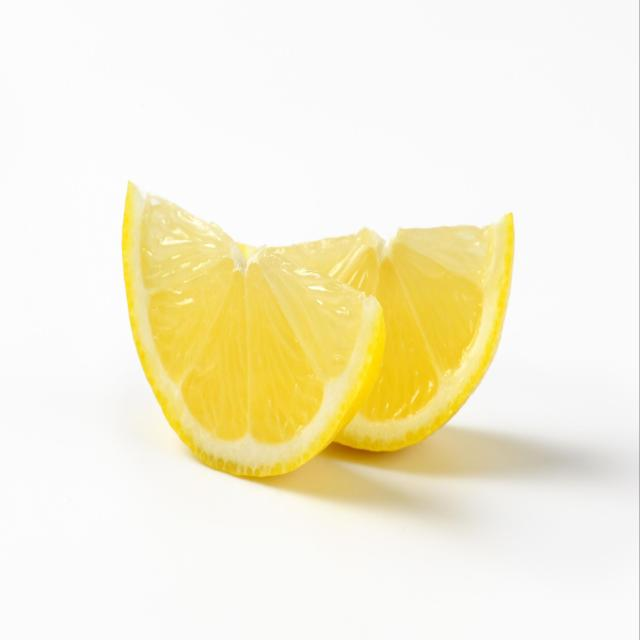lemon: (118, 176, 523, 485)
